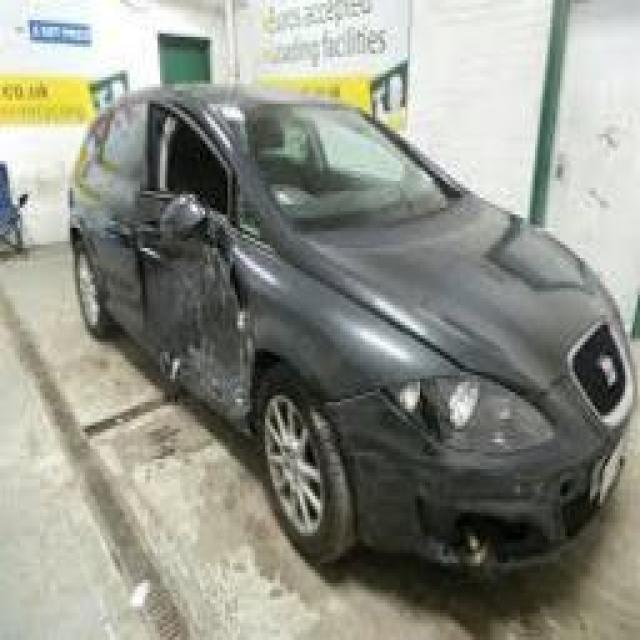replaceable: (138, 138, 271, 419), (410, 368, 509, 450), (443, 512, 504, 586)
